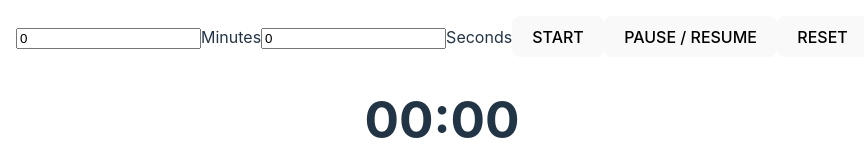
it: RunningClock › starts timer and displays correct time
The image size is (864, 167).
Replace the text in the number field labelled "Minutes" with "1" at (108, 38), box [16,28,201,48]
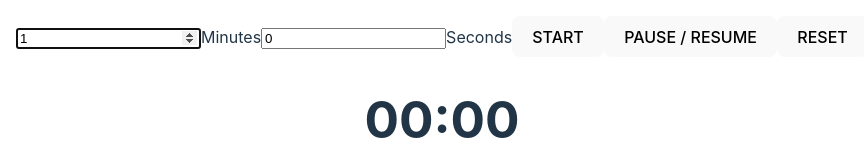
Replace the text in the number field labelled "Seconds" with "30" at (354, 38), box [261,28,446,48]
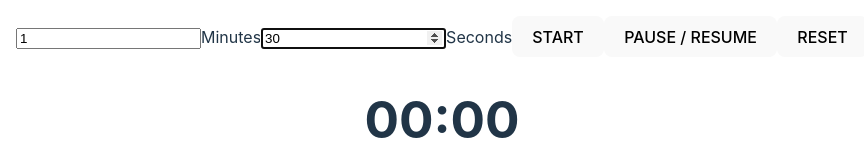
Click the button "START" at (558, 37), box [512,16,604,57]
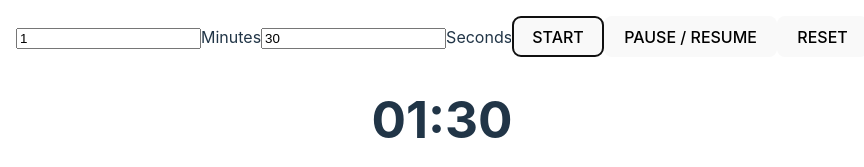
Check: the heading with test id "running-clock" reads "01:30", box [371,88,513,150]
